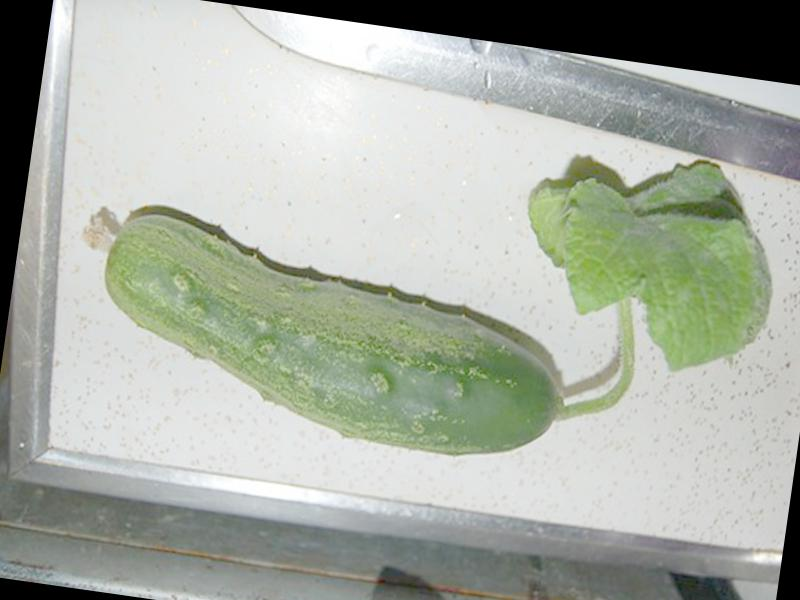Cucumber: (58, 200, 583, 471)
